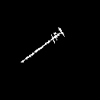treble_crochet: (22, 28, 63, 61)
